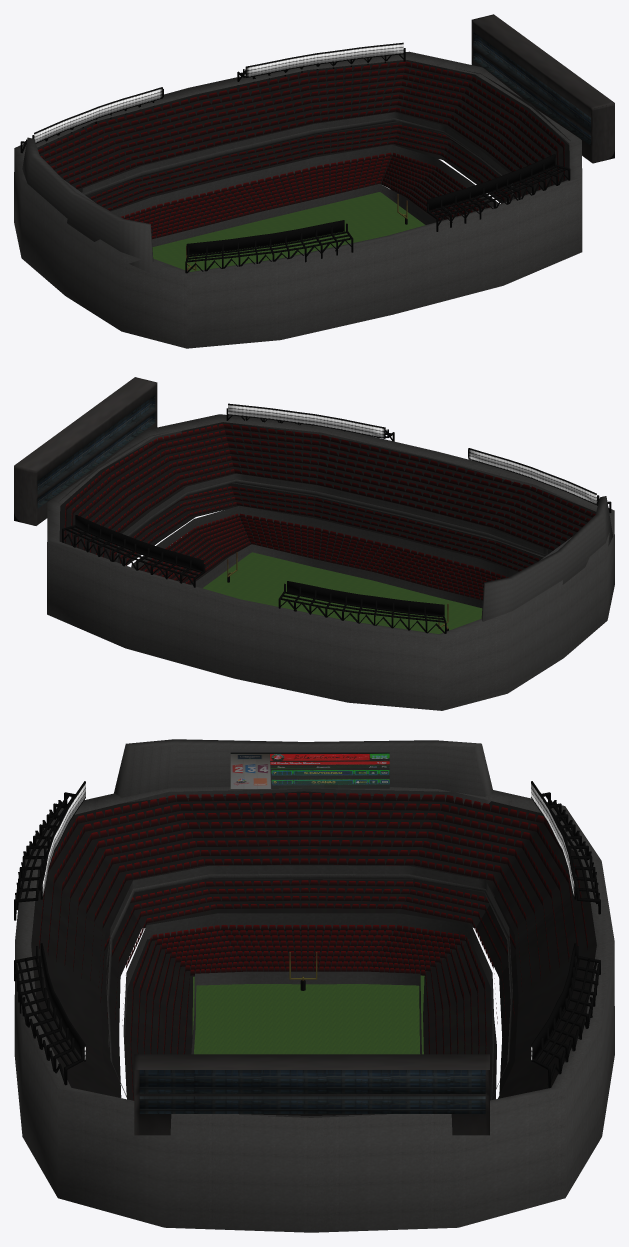
File: footballStadium.fbx
3 renders of one model, top to bottom at view 1: azimuth 30°, elevation 25°; view 2: azimuth 150°, elevation 25°; view 3: azimuth 270°, elevation 25°, orthographic. The views are drawn at different scales.
Parts seen in each view (by area): view 1: polySurface53, polySurface51, polySurface24, polySurface49, pCube28, polySurface2, polySurface23, polySurface22; view 2: polySurface53, polySurface51, polySurface24, polySurface49, pCube28, polySurface2, polySurface23, polySurface22; view 3: polySurface53, polySurface51, polySurface24, pCube28, polySurface2, polySurface22, polySurface23, polySurface49, pCube26.
Boxes of the visible parts, x1,y1,x2,y2 form: polySurface53: (14,51,582,348); polySurface51: (38,61,565,239); polySurface24: (37,60,569,197); polySurface49: (20,42,570,273); pCube28: (471,14,614,163); polySurface2: (152,192,425,271); polySurface23: (87,122,517,211); polySurface22: (124,155,487,237); polySurface53: (47,414,614,710); polySurface51: (64,424,595,600); polySurface24: (59,422,595,559); polySurface49: (62,403,611,633); pCube28: (14,377,157,525); polySurface2: (203,552,482,633); polySurface23: (113,483,543,571); polySurface22: (141,516,501,599); polySurface53: (14,739,614,1232); polySurface51: (39,793,587,1100); polySurface24: (31,791,596,1098); pCube28: (134,1054,489,1135); polySurface2: (192,975,424,1054); polySurface22: (124,928,496,1100); polySurface23: (100,879,518,1097); polySurface49: (14,781,600,1088); pCube26: (230,749,389,789).
Size of the model in its own units: 336 by 89.78 by 243.
